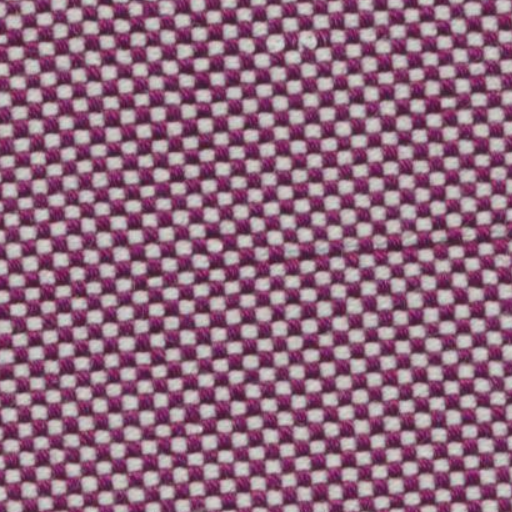TuoSha: (11, 216, 501, 305)
